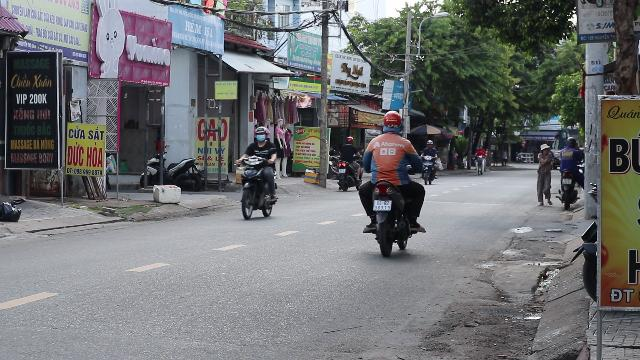helmet: (381, 110, 403, 132), (254, 126, 268, 142)
licenseplate: (373, 200, 391, 210)
motorcyclist: (357, 110, 428, 256), (234, 125, 280, 219)
